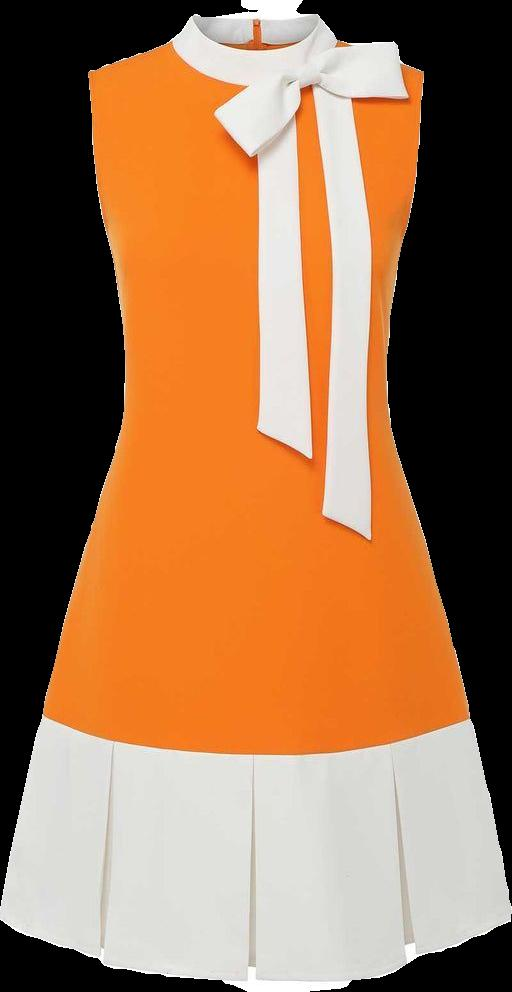Bodice: (88, 0, 423, 411)
Hemline: (0, 904, 511, 991)
Neckline: (190, 15, 323, 60)
Skirt: (0, 408, 511, 991)
Waistline: (41, 708, 475, 765)
